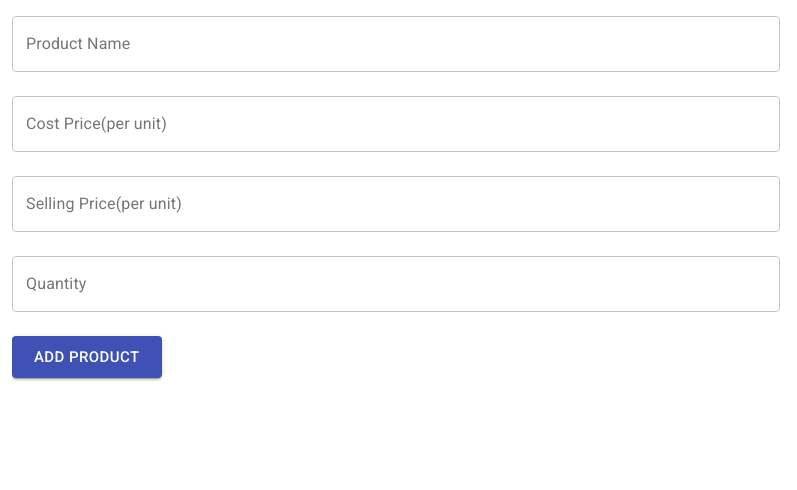
Test: Buy product › should render required field validations
Click the button "Add product" at (87, 357), box [12,336,162,378]
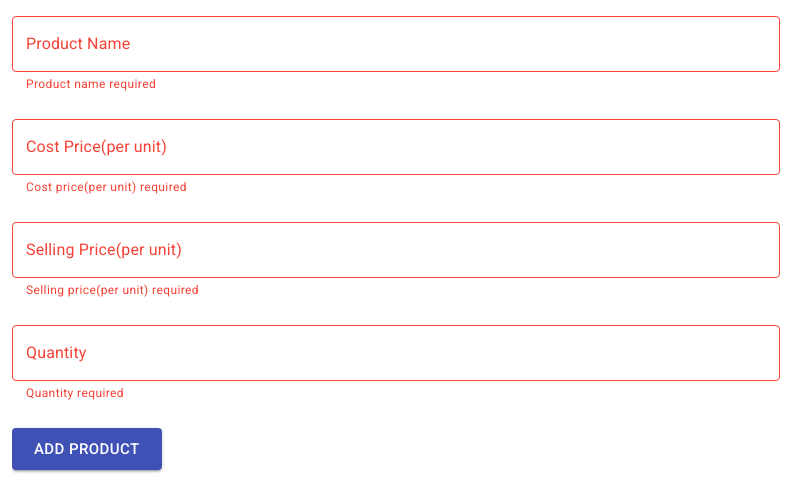
Result: the text "Product name required" is shown at [26,77,156,91]
Result: the text "Cost price(per unit) required" is shown at [26,180,187,194]
Result: the text "Selling price(per unit) required" is shown at [26,283,199,297]
